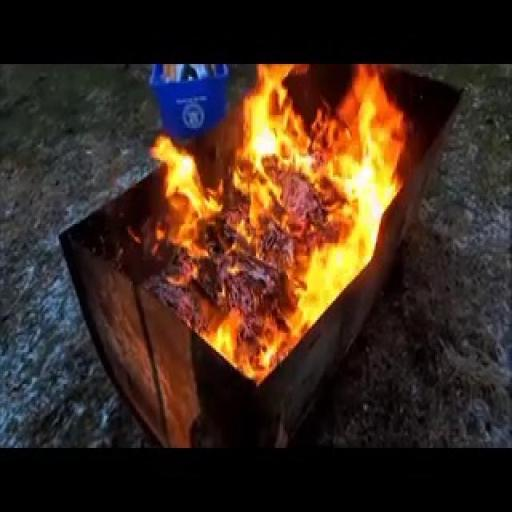smoke: (146, 66, 411, 388)
